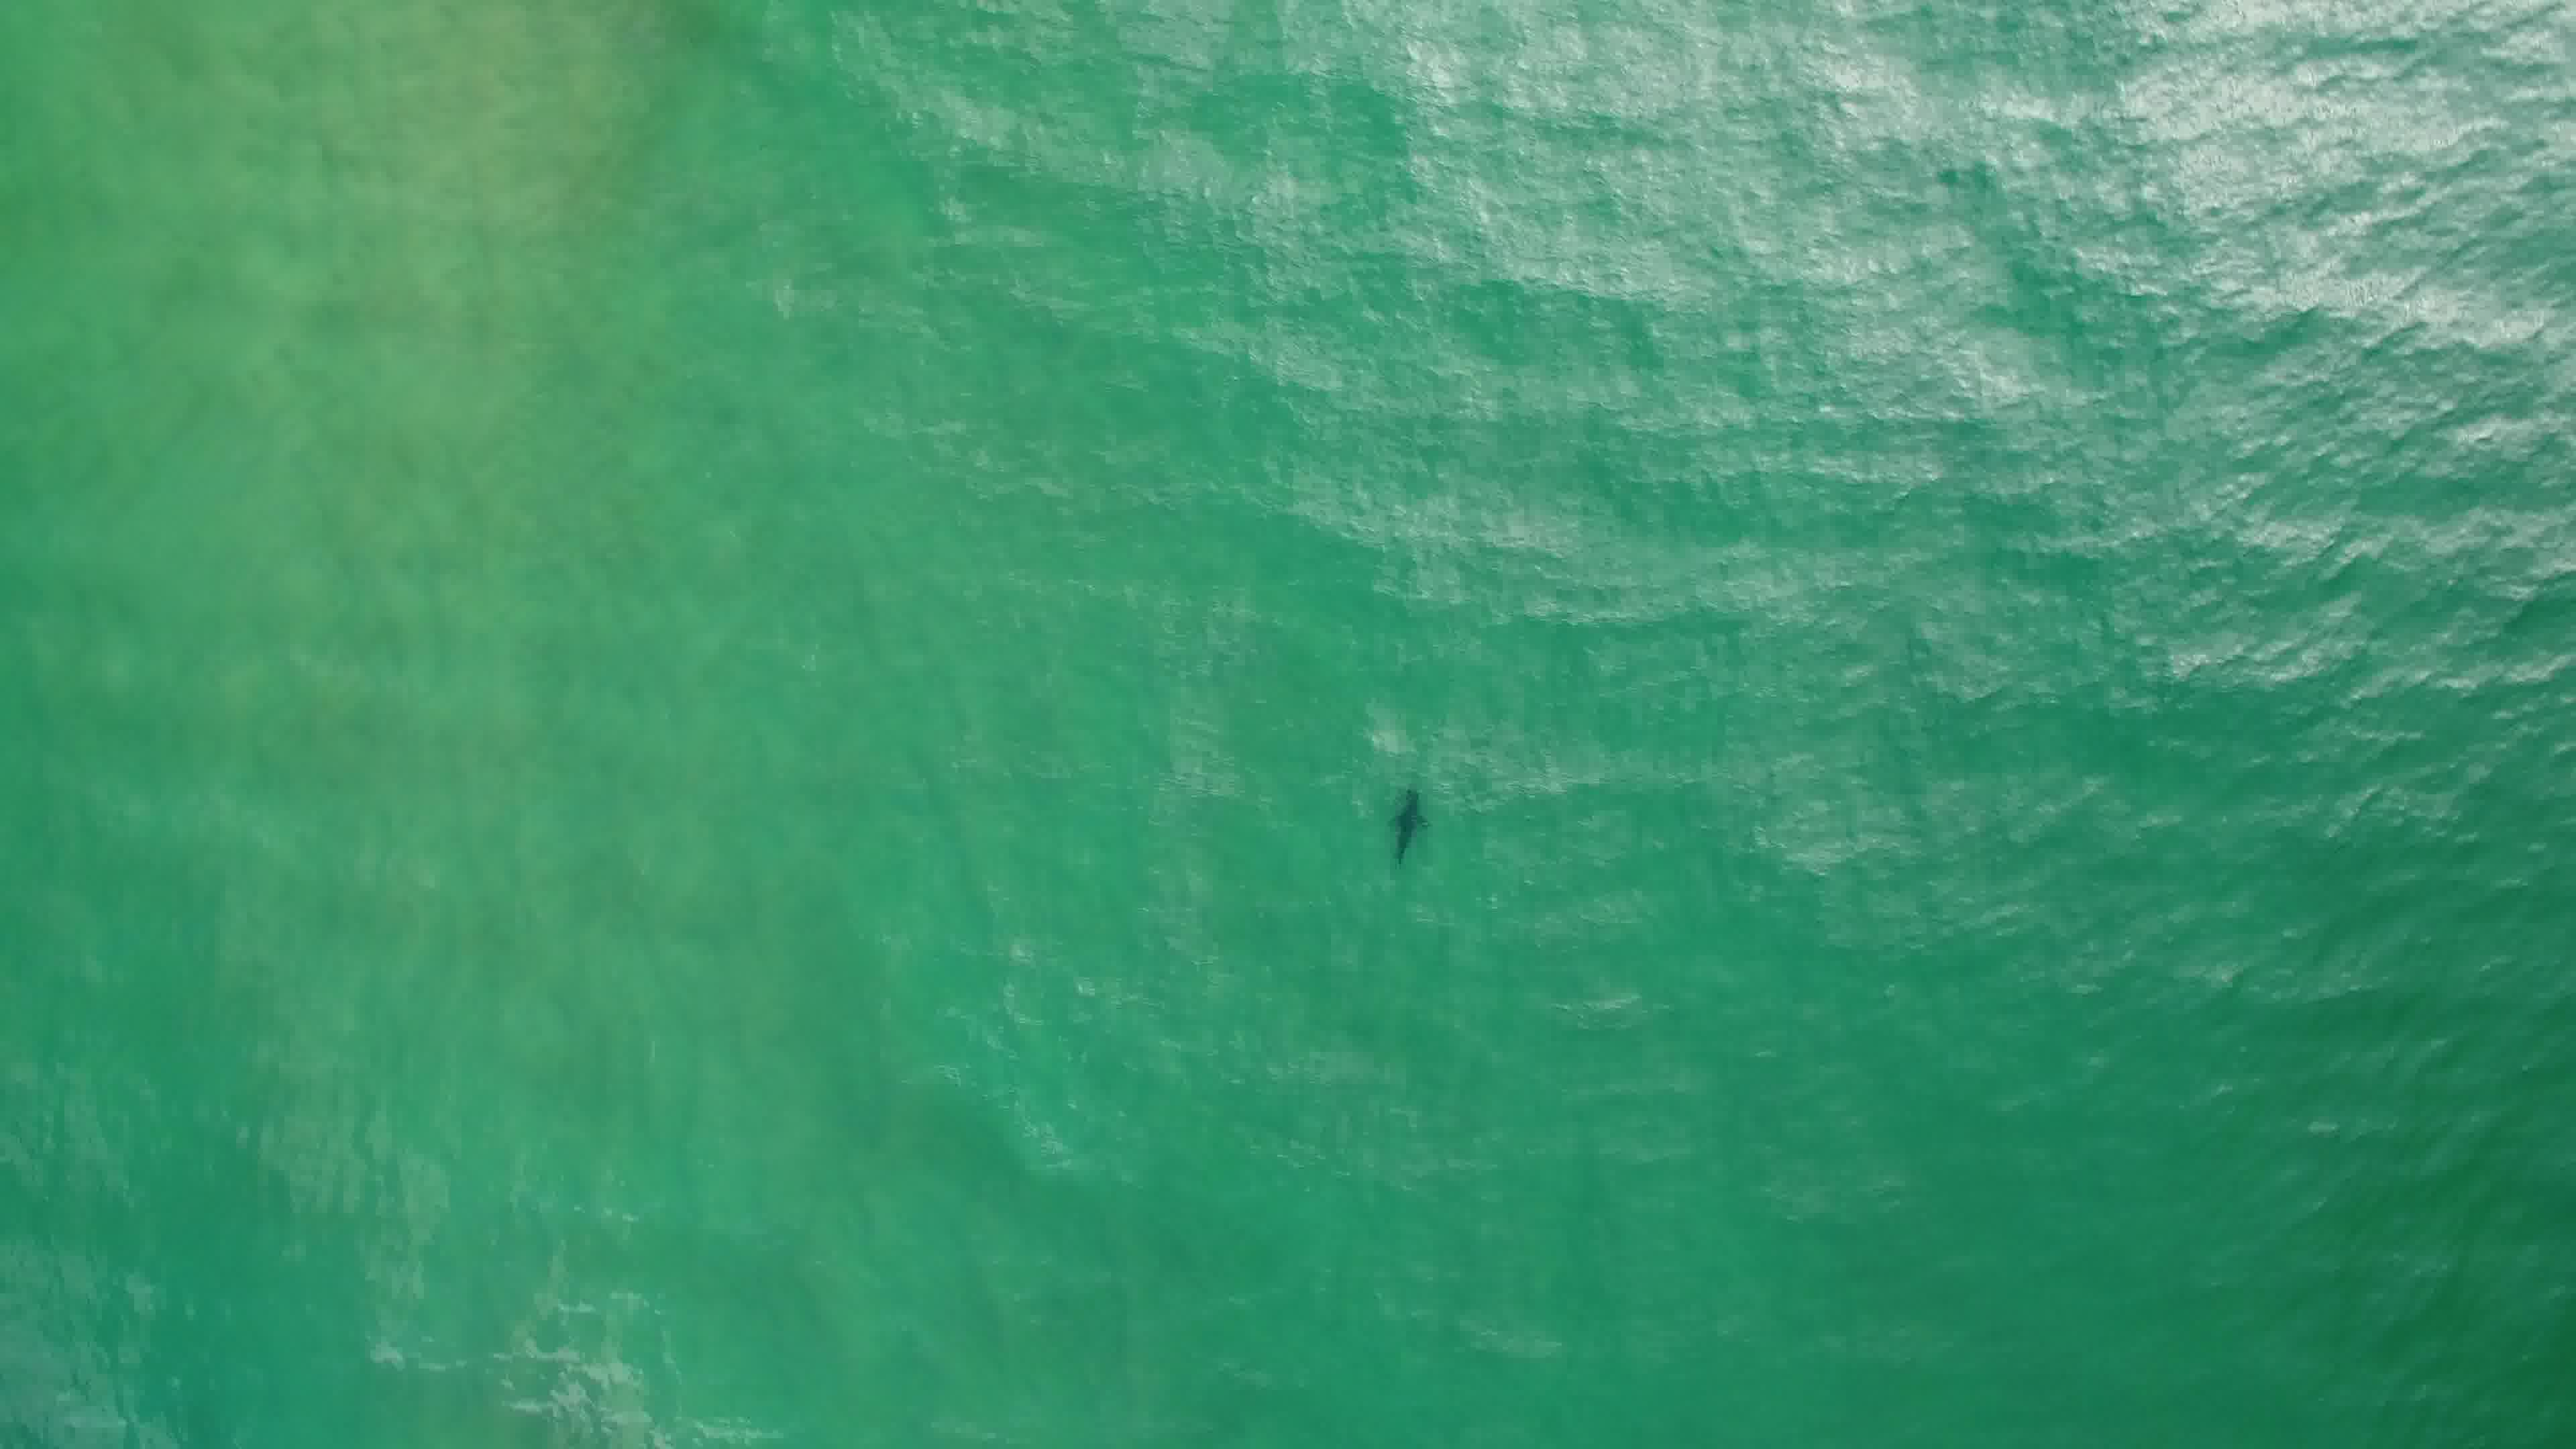shark: (1384, 787, 1435, 867)
